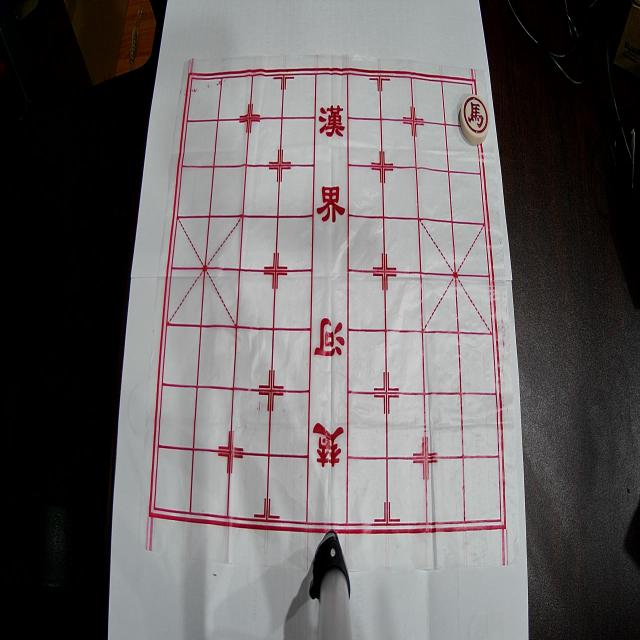red-horse: (460, 94, 490, 144)
